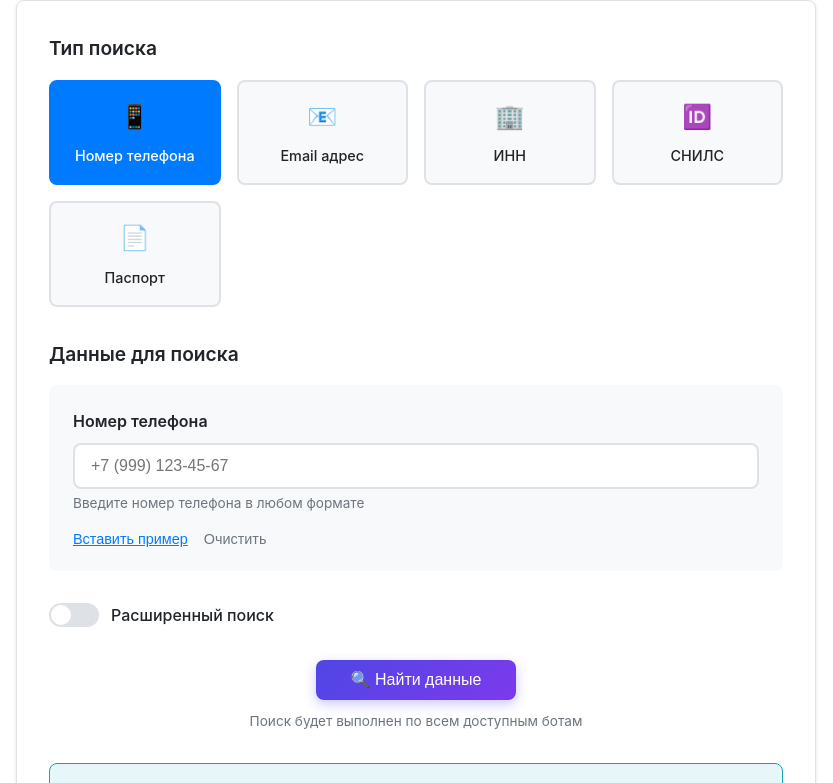
Test: SearchForm › clears input when clear button is clicked
Type "+7 999 123 45 67" into the field with placeholder "+7 (999) 123-45-67" at point(416, 466), box [73,443,759,489]
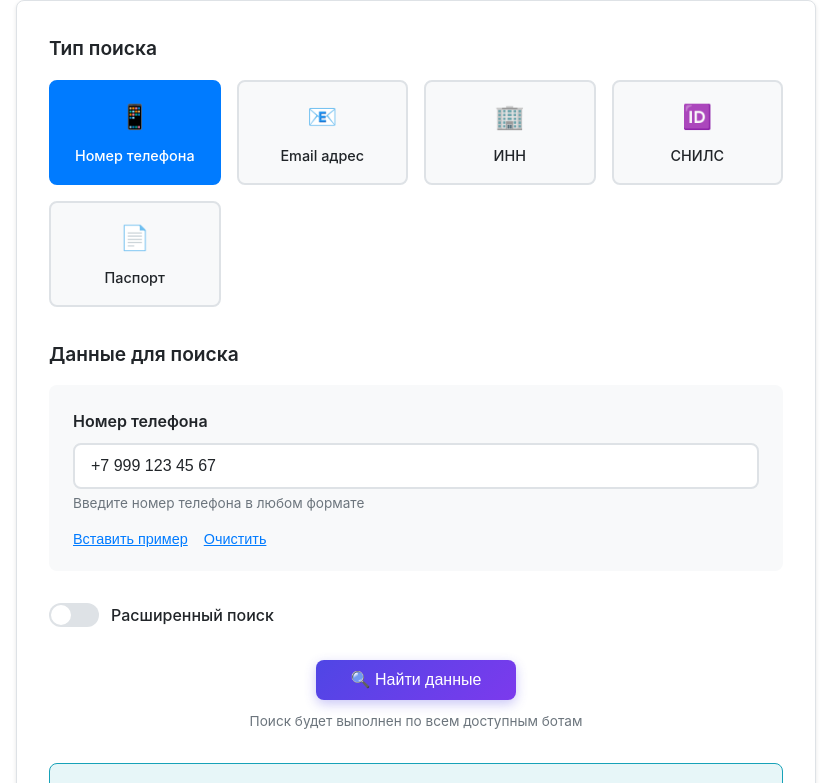
Click the button "Очистить" at point(235, 539), box [204,531,266,547]
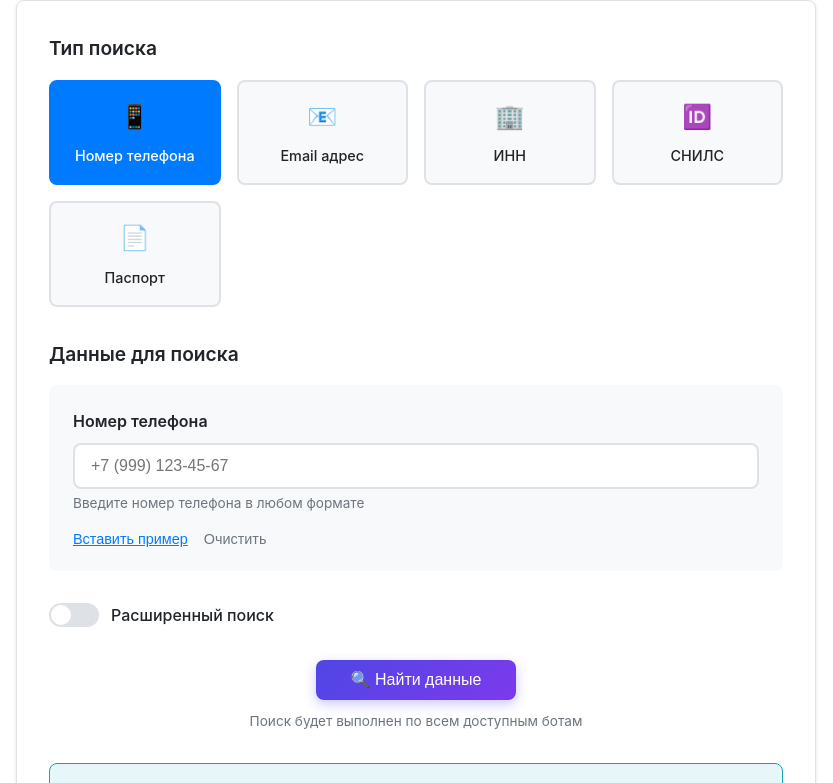
Expected: the field with placeholder "+7 (999) 123-45-67" is empty, [73,443,759,489]
